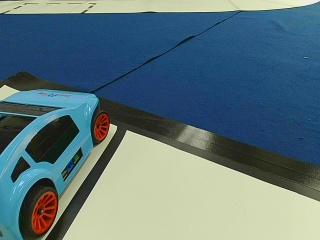car: (0, 93, 107, 235)
